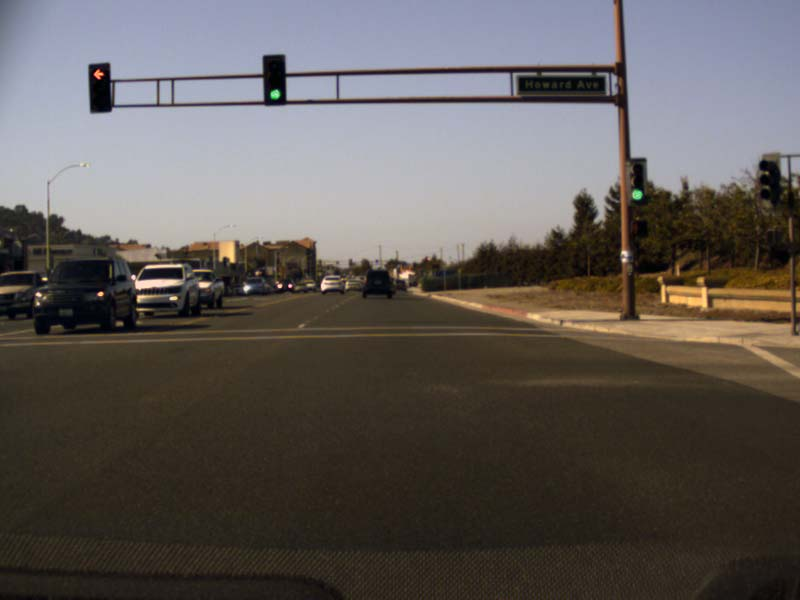Green: (263, 55, 285, 106), (631, 160, 645, 200)
Red: (90, 62, 109, 113)
